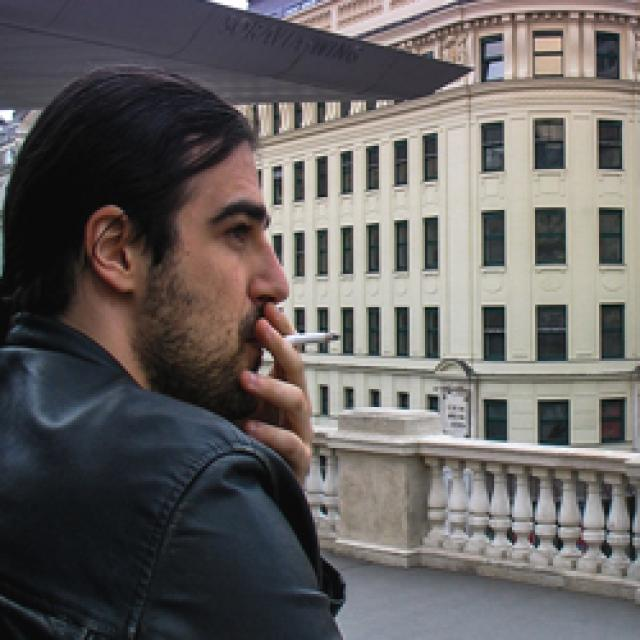Smooking: (289, 316, 351, 355)
